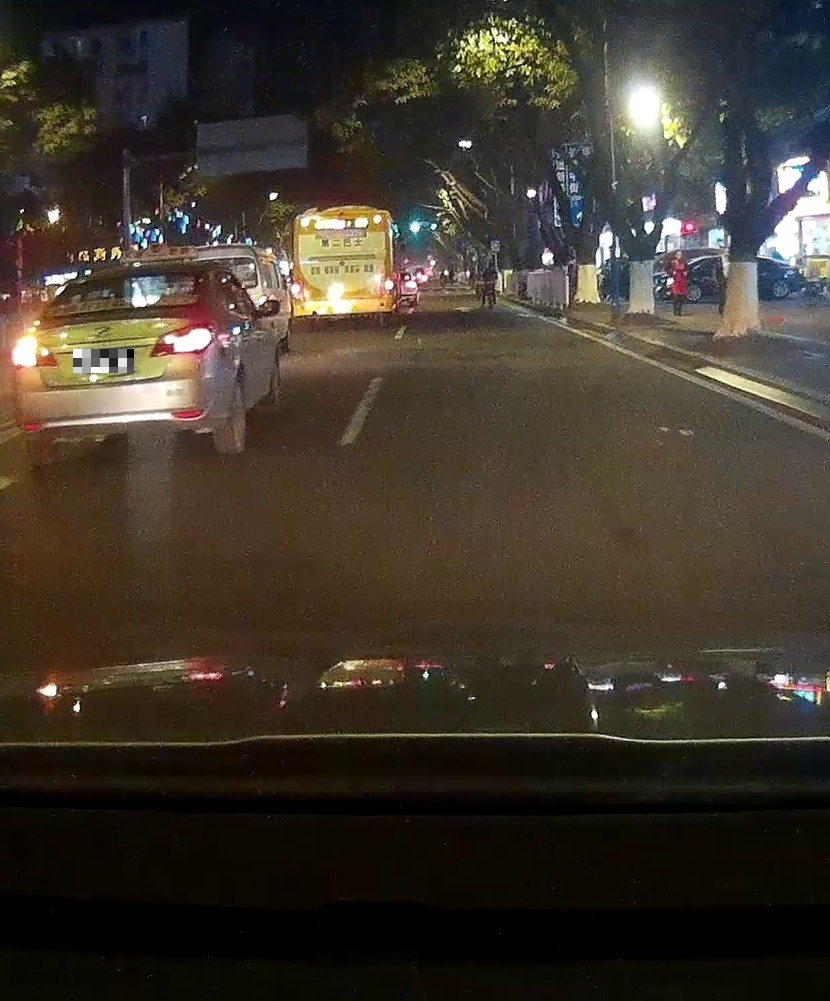L_light: (10, 335, 57, 367), (293, 279, 303, 298)
R_light: (150, 322, 215, 356), (382, 275, 394, 295)
T_light: (115, 276, 148, 283), (334, 213, 349, 218)
night-left: (10, 259, 215, 465)
night-no: (292, 205, 395, 326)
plate_1: (73, 349, 134, 373)
